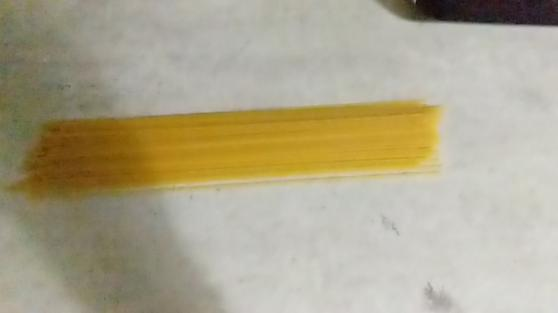spaghetti: (13, 92, 449, 198)
